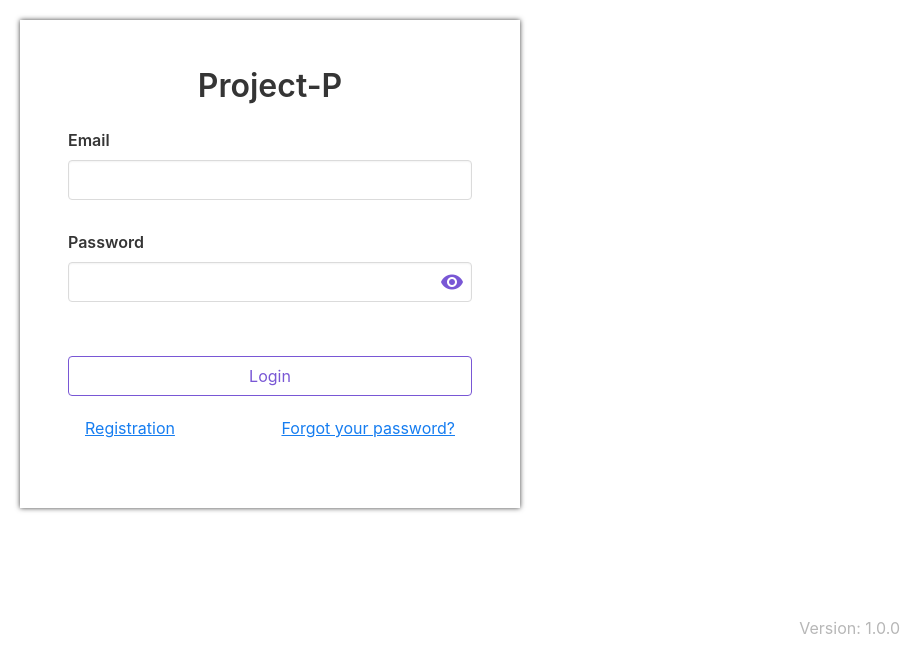
Login page › should check front-end validation
Click the button "Login".
click(270, 376)  # box [68,356,472,396]
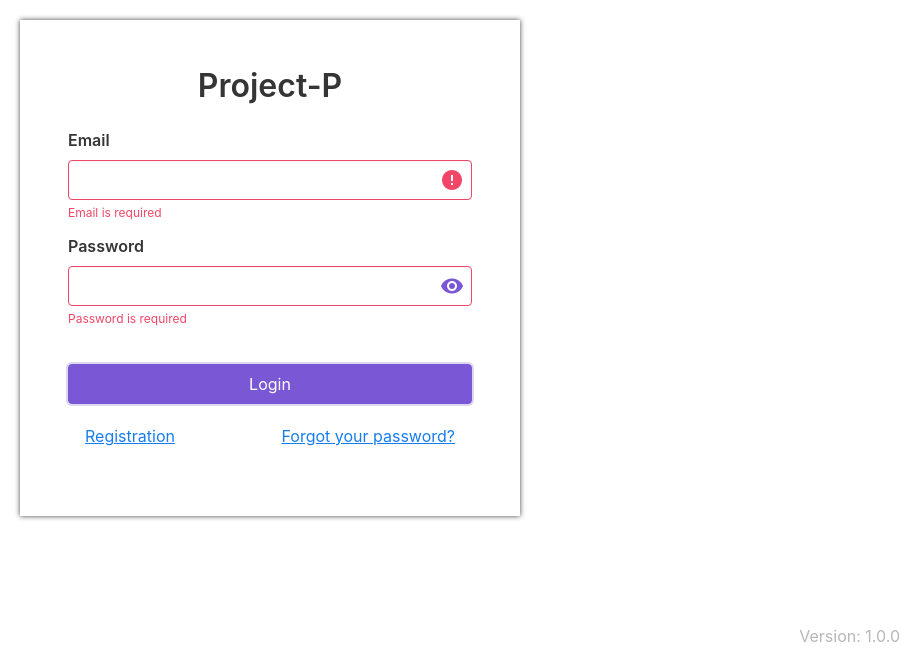
Result: the text with class "is-danger" reads "Email is required" at [68,205,162,220]
Result: the text with class "is-danger" reads "Password is required" at [68,311,187,326]
